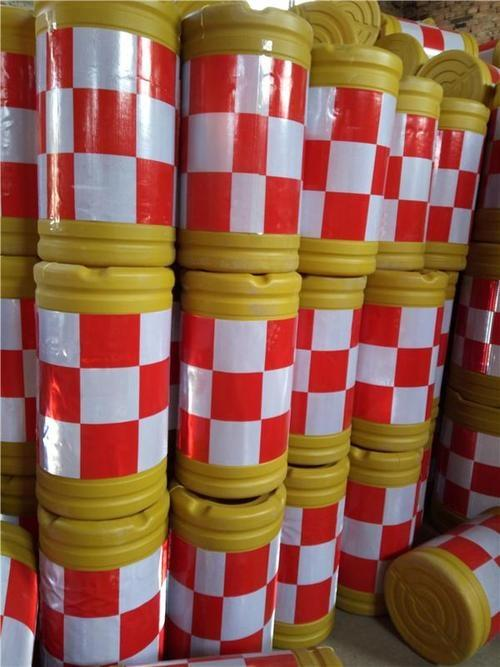cone_barrel: (33, 0, 179, 266), (179, 4, 314, 271), (33, 266, 173, 519), (173, 272, 302, 501), (299, 41, 404, 276), (34, 507, 169, 663), (169, 487, 286, 655), (386, 511, 499, 664), (352, 271, 448, 447), (287, 274, 368, 464), (334, 448, 423, 614), (273, 461, 351, 644), (376, 74, 444, 269), (440, 97, 492, 267), (437, 391, 498, 521)
